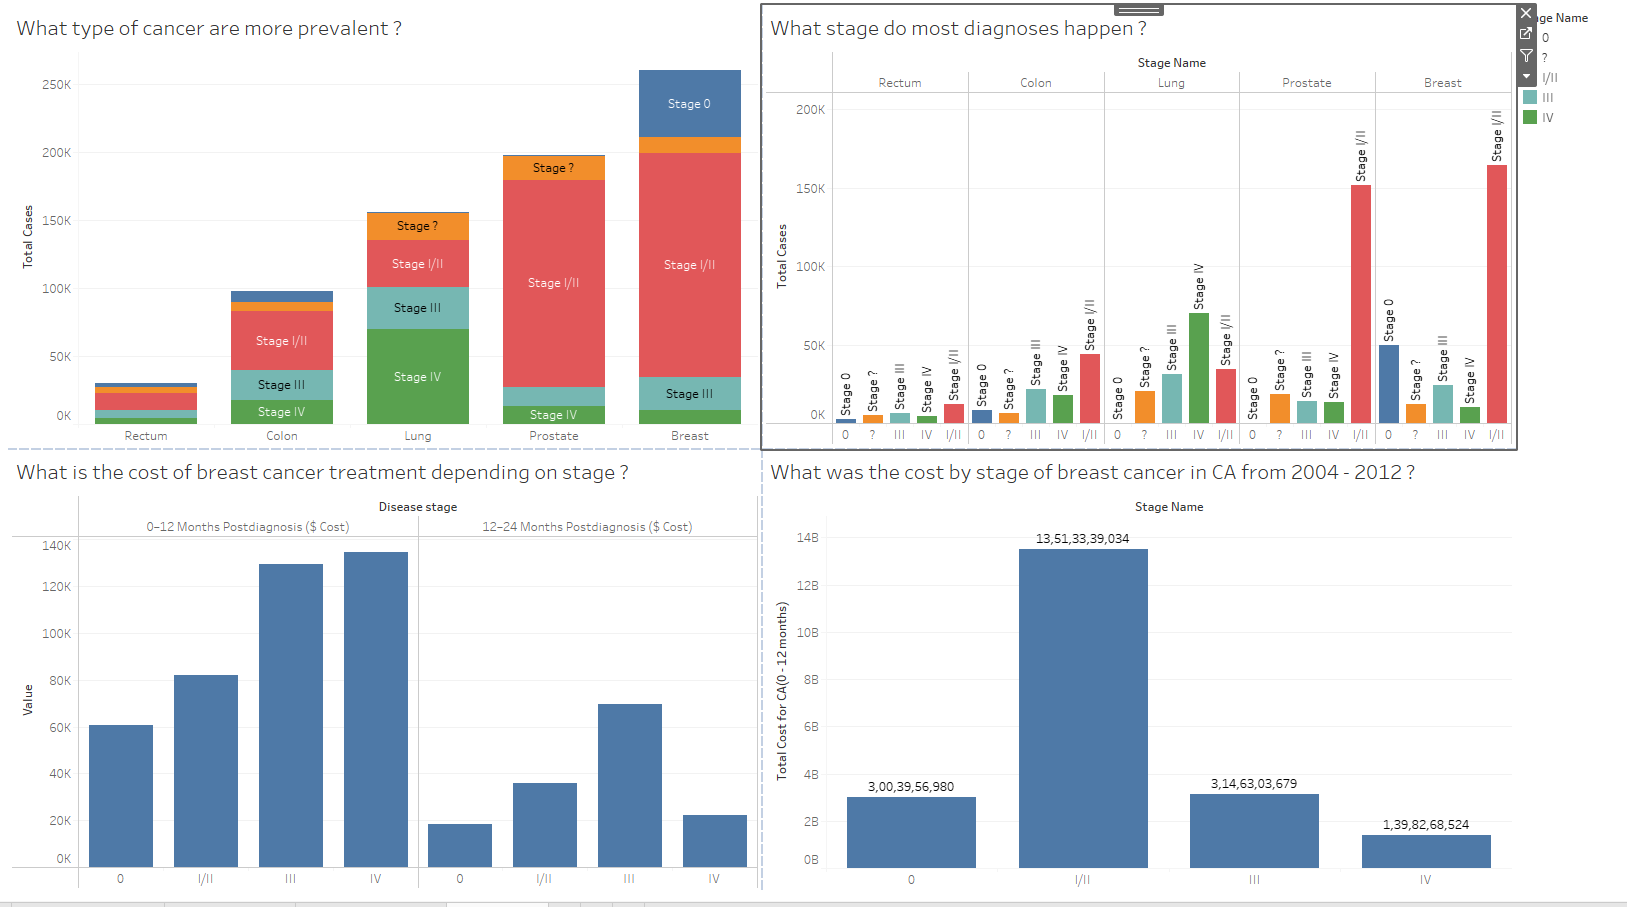

What the dashboard file says about the page in this screenshot:
{"tool":"tableau","page":{"name":"Dashboard 1","canvas":[1000,1000],"units":"permille","ordinal":0},"visuals":[{"type":"worksheet","title":"Cancer Stage","mark":"Automatic","box":[4.8,8.8,447.7,491.2]},{"type":"worksheet","title":"Cancer Stage Diagnoses","mark":"Automatic","cols":["Stage Name"],"box":[452.5,8.8,447.8,491.2]},{"type":"legend","title":"Cancer Stage","param":"[federated.03hc3qs0k5wscg16lrsvm0l8qxyd].[none:Stage Name:nk]","box":[900.2,8.8,95,139.4]},{"type":"worksheet","title":"Breast Cancer Costs","mark":"Automatic","cols":["Disease stage"],"box":[4.8,500,447.7,491.2]},{"type":"worksheet","title":"Total Cost for California","mark":"Automatic","rows":["Calculation_435160374530351106"],"cols":["Stage Name"],"box":[452.5,500,447.8,491.2]}]}

Visuals, with their boxes on the dashboard's canvas, which has no fixed pixel size, in thousandths of its width and height (x1, y1, x2, y2). These are canvas units, not pixel positions in the 1627x907 screenshot, which may show the page scaled, cropped or inside an application window:
"Cancer Stage" worksheet: [left=5, top=9, right=452, bottom=500]
"Cancer Stage Diagnoses" worksheet: [left=452, top=9, right=900, bottom=500]
"Cancer Stage" legend: [left=900, top=9, right=995, bottom=148]
"Breast Cancer Costs" worksheet: [left=5, top=500, right=452, bottom=991]
"Total Cost for California" worksheet: [left=452, top=500, right=900, bottom=991]
